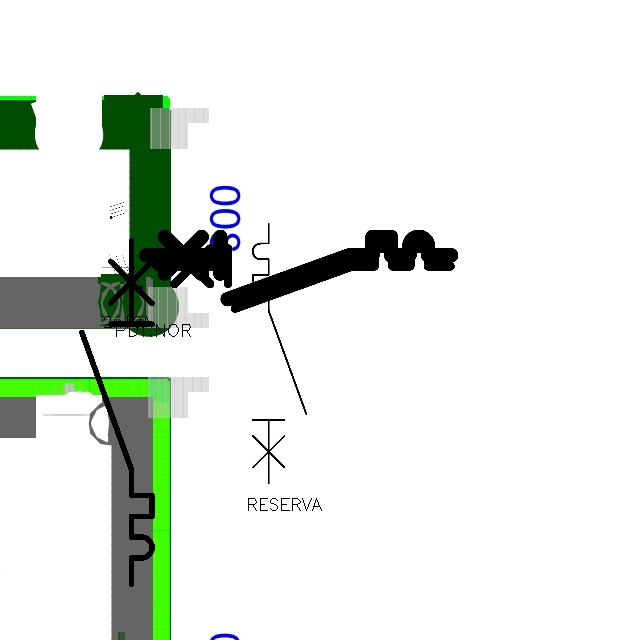interruptor_termomagnetico: (73, 231, 161, 592), (138, 229, 458, 307), (148, 241, 457, 316), (246, 217, 312, 490)
